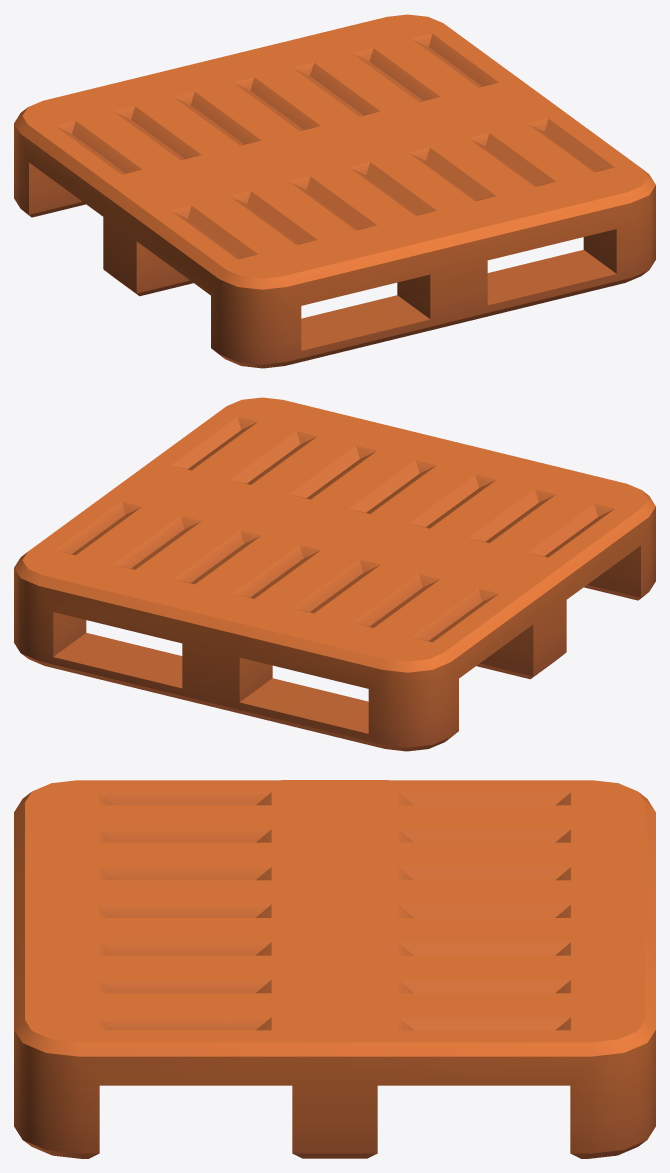
Rendered from pallet_plastic_orange.glb.
3 renders of one model, top to bottom at view 1: azimuth 30°, elevation 25°; view 2: azimuth 150°, elevation 25°; view 3: azimuth 270°, elevation 25°, orthographic. The views are drawn at different scales.
Visible parts, largest first — view 1: Pallet_Plastic_Orange; view 2: Pallet_Plastic_Orange; view 3: Pallet_Plastic_Orange.
Boxes of the visible parts, x1=… form: Pallet_Plastic_Orange: x1=14, y1=14, x2=655, y2=368; Pallet_Plastic_Orange: x1=14, y1=397, x2=655, y2=751; Pallet_Plastic_Orange: x1=14, y1=780, x2=655, y2=1158.
Bounding box in the file's own units: 1.5 × 0.2999 × 1.5.
1 material, 1 textured.
